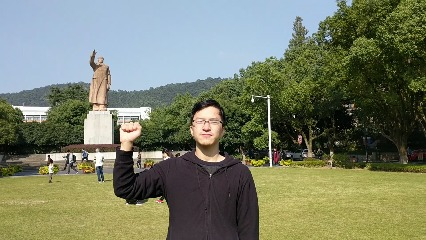fist: (117, 120, 144, 143)
